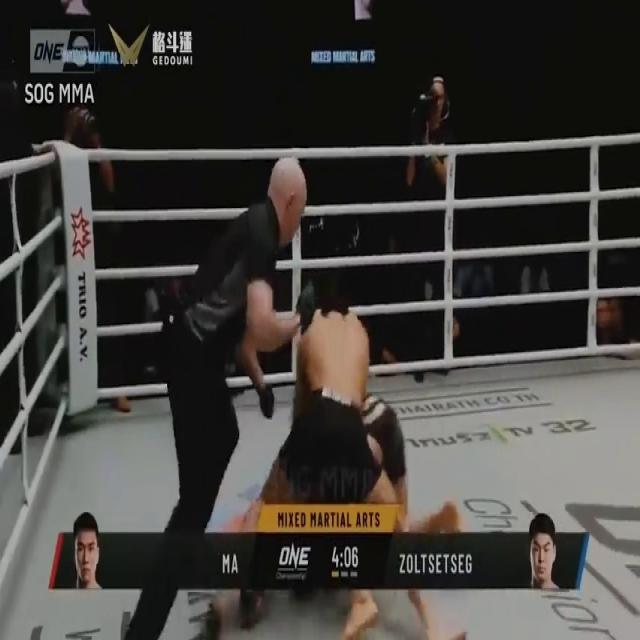fight: (209, 287, 459, 635)
non-fight: (123, 154, 308, 640), (404, 78, 456, 373)
